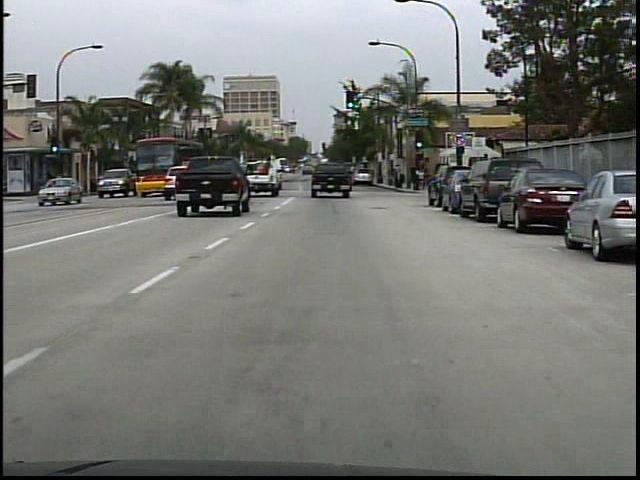person: (417, 166, 427, 192), (424, 168, 433, 191)
